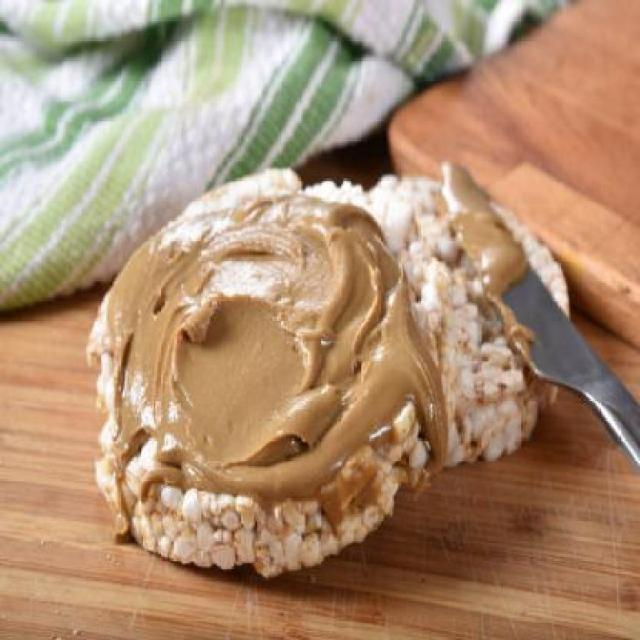Gallette di riso packaged: (82, 163, 460, 574)
Spread: (133, 224, 390, 448)
